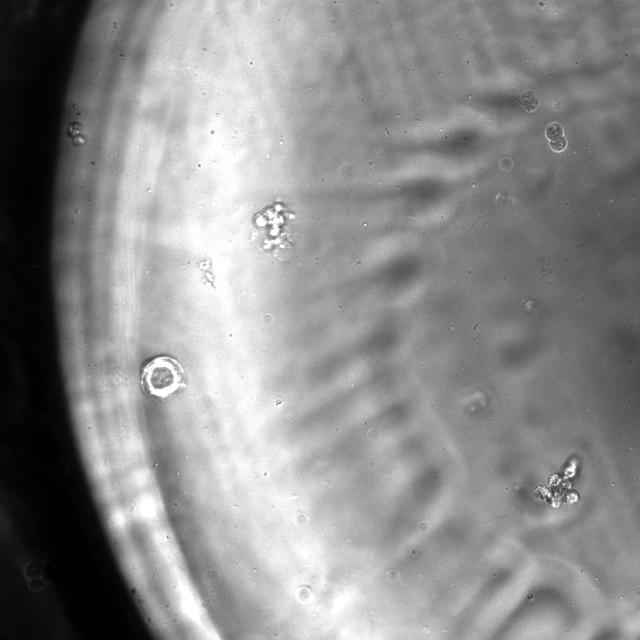organoid: (251, 200, 295, 259), (532, 455, 580, 508), (141, 356, 185, 399), (545, 123, 567, 152), (516, 89, 539, 113), (66, 122, 86, 145)
